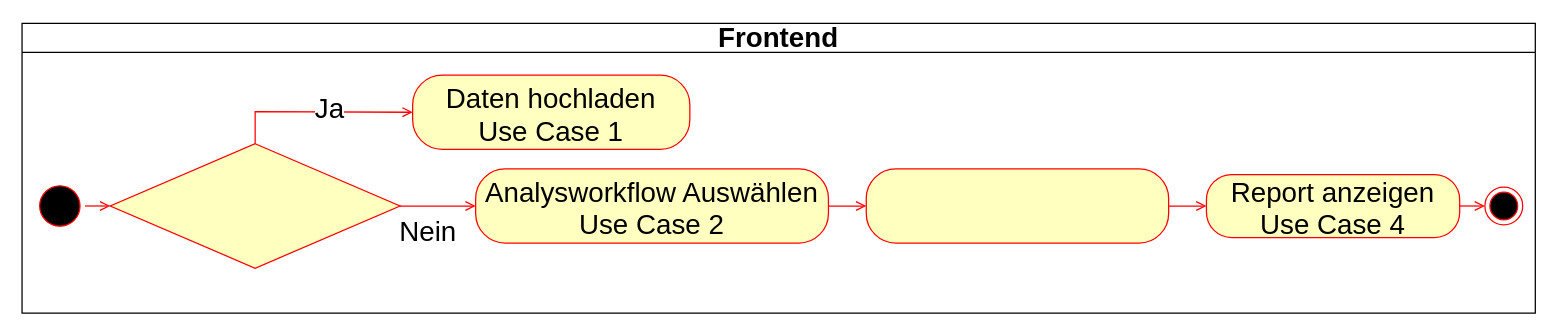
This 1557x335 diagram has some shape labels left out. Each missing label, with the centre of its shape:
Analysworkflow starten Use Case 3: the point at 1017,205
Daten Hochladen?: the point at 254,205
